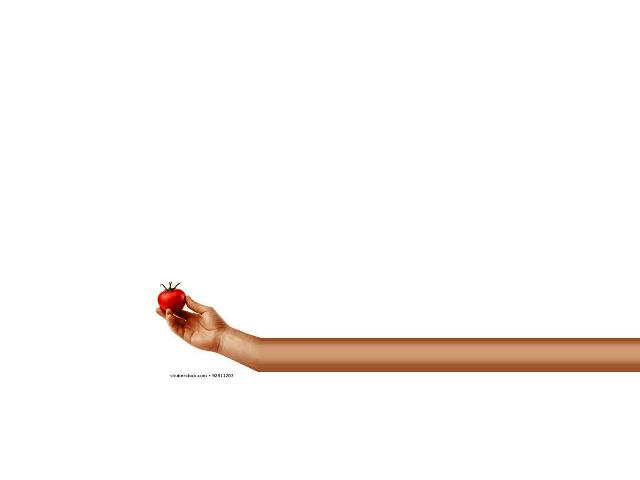tomato: (158, 289, 186, 313)
